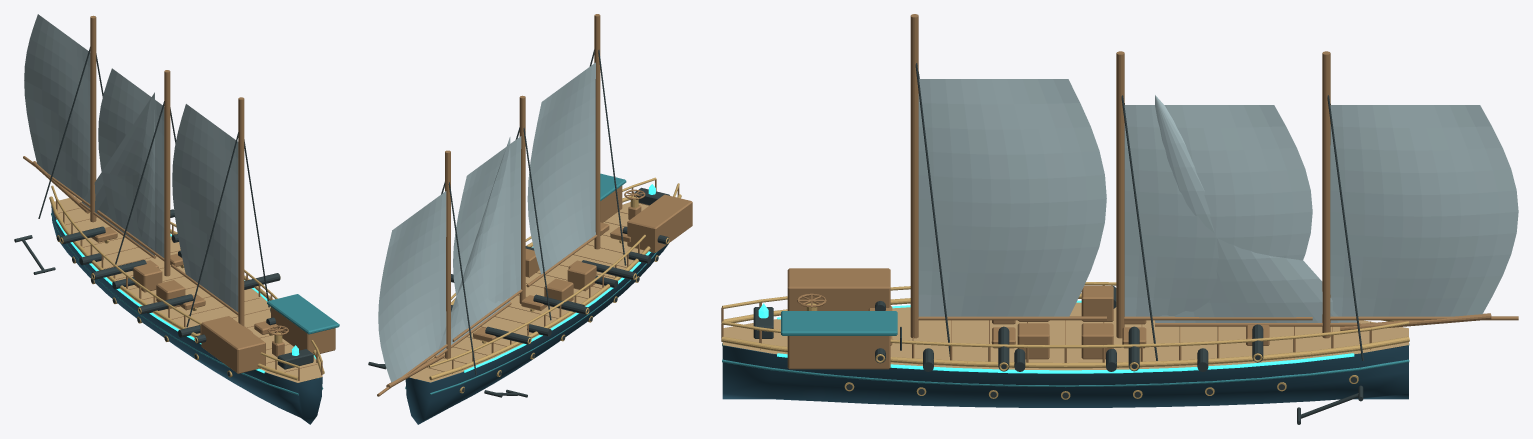
File: premium_ghost_frigate.glb
3 renders of one model, left to right at view 1: azimuth 30°, elevation 25°; view 2: azimuth 150°, elevation 25°; view 3: azimuth 270°, elevation 25°, orthographic. The views are drawn at different scales.
Visible parts, largest first — view 1: premium_ghost_frigate; view 2: premium_ghost_frigate; view 3: premium_ghost_frigate.
Part boxes in pixels (x1,y1,x2,y2): premium_ghost_frigate: [14, 14, 339, 424]; premium_ghost_frigate: [368, 14, 692, 424]; premium_ghost_frigate: [721, 14, 1518, 424].
Bounding box in the file's own units: 4.91 × 9.25 × 17.43.
